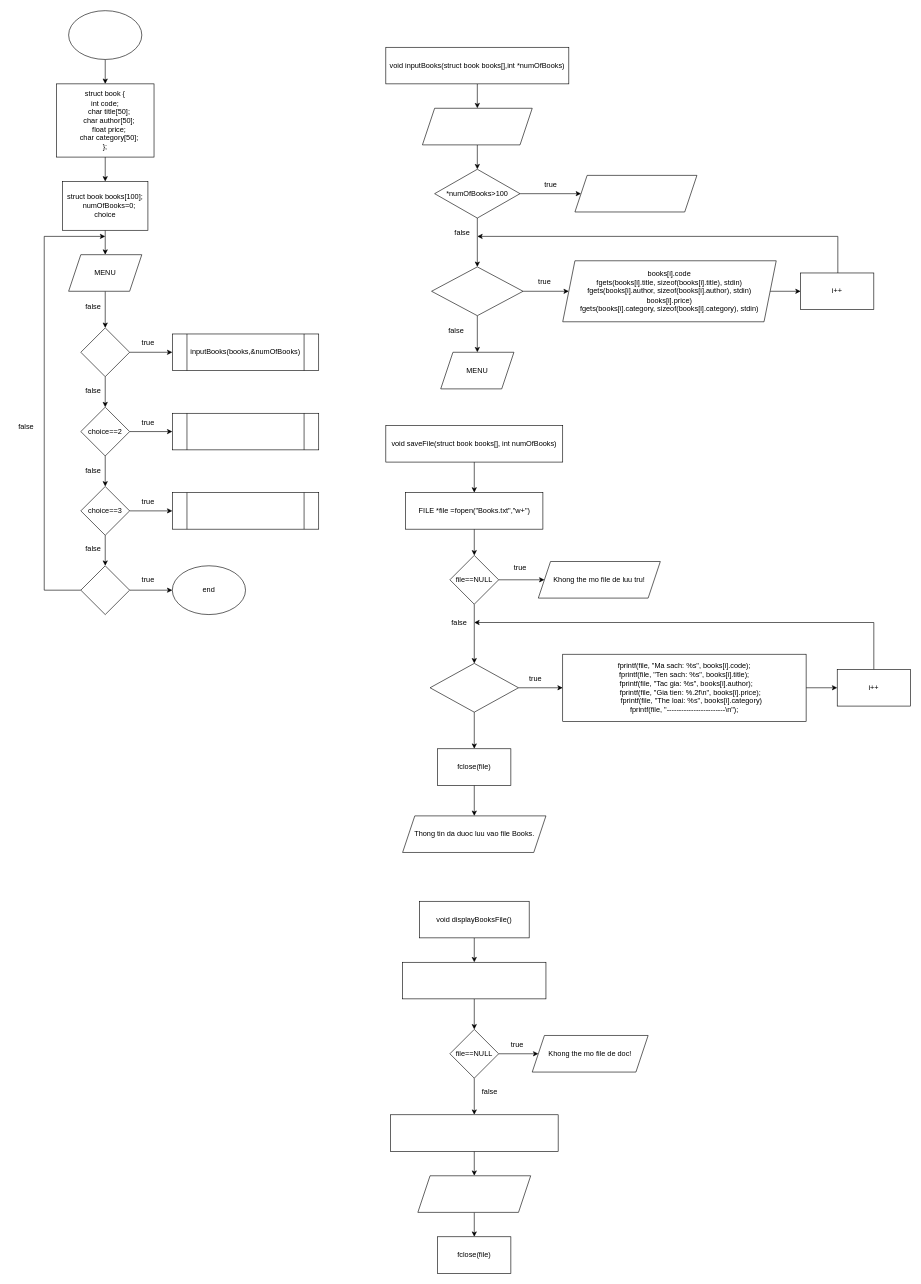
Some shapes in this 921 by 1284 pixel diagram are drawn without their labels. Here are the shapes that lost their labels. From the top down, the box of each, then its label:
(68, 10, 142, 59): start
(422, 108, 532, 145): scanf("%d",numOfBooks)
(574, 175, 697, 212): So luong sach vuot gioi han!
(431, 266, 523, 316): i<*numOfBooks
(80, 327, 130, 377): choice==1
(172, 413, 319, 450): saveFile(books,numOfBooks)
(172, 492, 319, 529): displayBooksFile()
(80, 565, 130, 615): choice==4
(429, 663, 518, 712): i < numOfBooks
(402, 962, 546, 999): char content[1000]; FILE *file = fopen("Books.txt","r");
(390, 1114, 558, 1151): fread(content,sizeof(char),sizeof(content),file)
(417, 1175, 531, 1212): Thong tin sach tu file: printf("%s",content)
